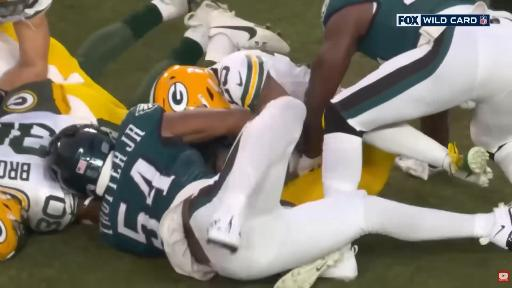Helmet: (49, 125, 114, 197), (151, 66, 230, 111), (0, 191, 27, 261), (0, 0, 38, 21)
Jersey: (100, 104, 213, 256), (0, 80, 76, 231), (358, 0, 476, 61), (210, 51, 310, 110), (0, 0, 51, 22)
Player: (51, 93, 511, 280), (0, 0, 188, 231), (304, 0, 511, 196), (208, 50, 309, 114), (0, 0, 51, 98)
